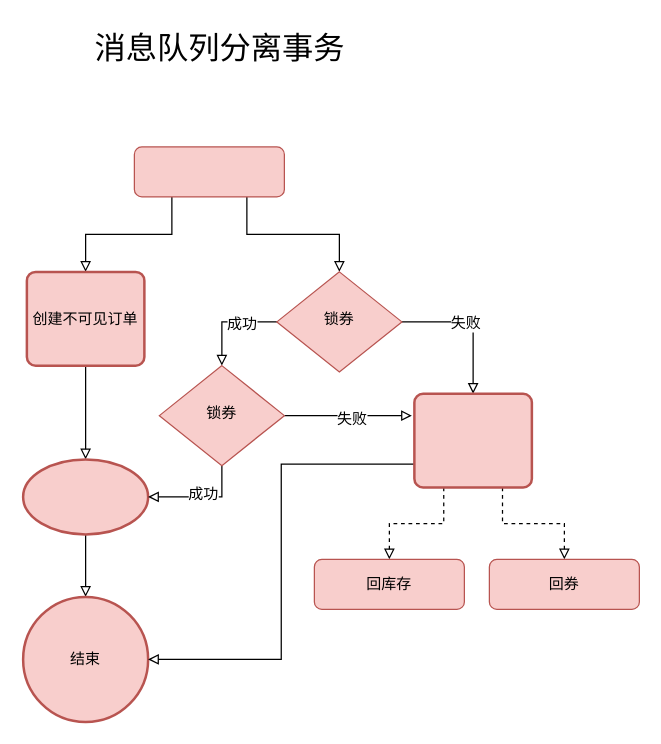
This 661x744 diagram has some shape labels left out. Here are the shapes that lost their labels. From the top down, the centre of each, then its label:
At point (208, 171): "进入交易流程".
At point (472, 440): "废单消息".
At point (85, 496): "订单变可见".
